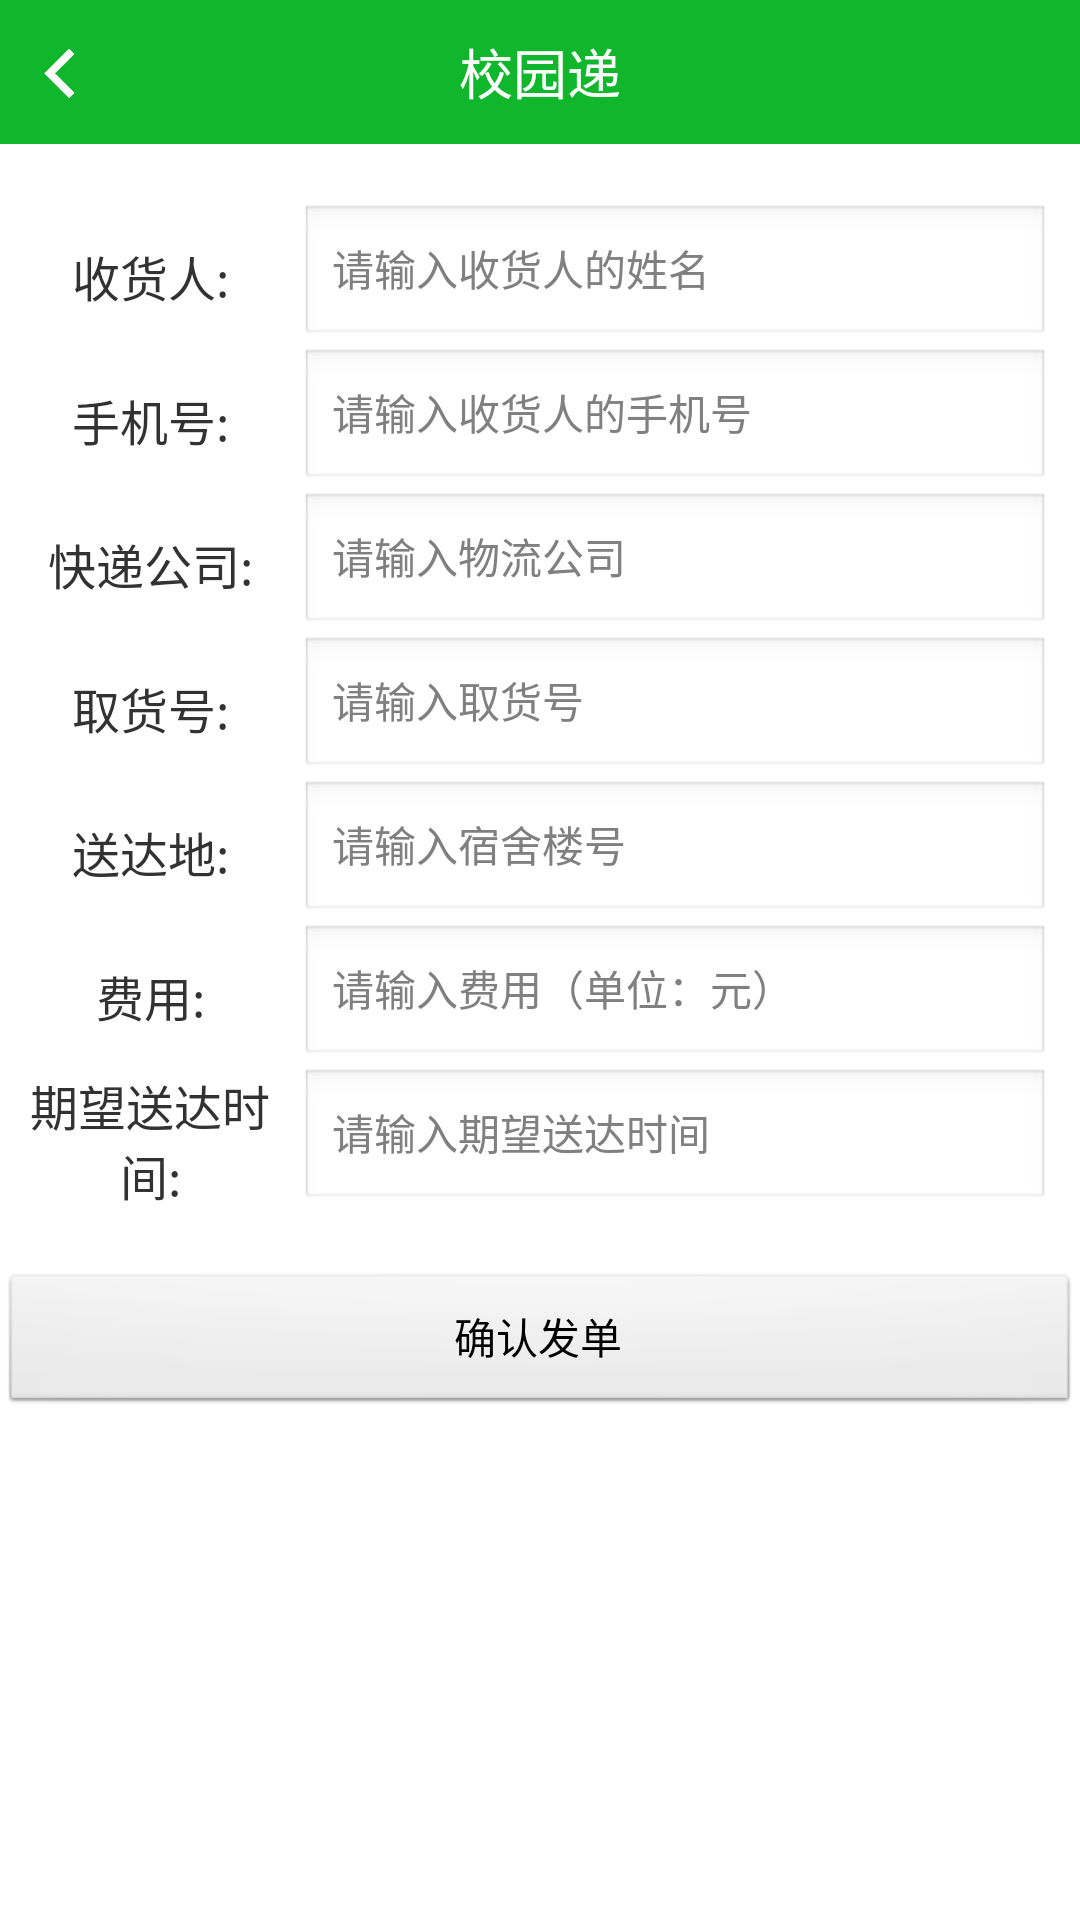

Screen size 1080px×1920px. Icon name, then its box in pixels as (x1, y1, x2, y2):
back: (44, 49, 75, 98)
